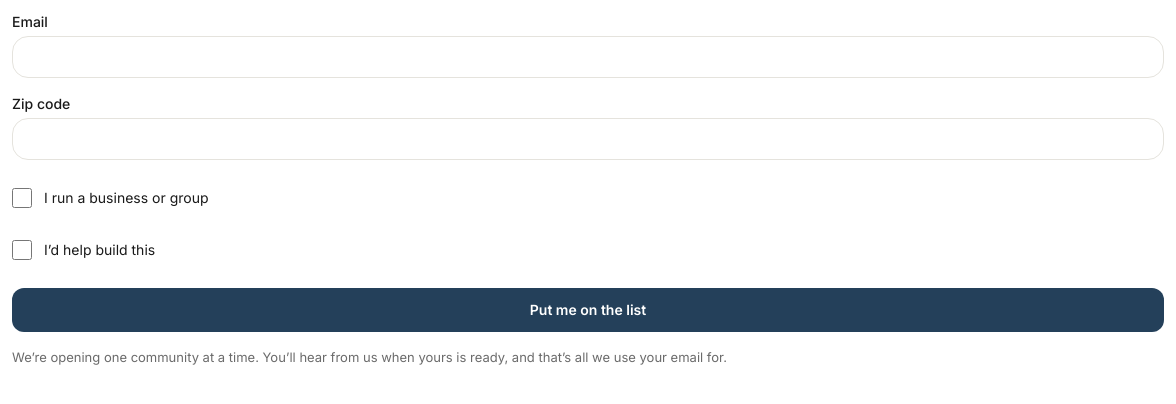
Scenario: the waitlist form › checks the zip and email before sending anything
Click the button "Put me on the list" at (588, 310), box [12,288,1164,332]
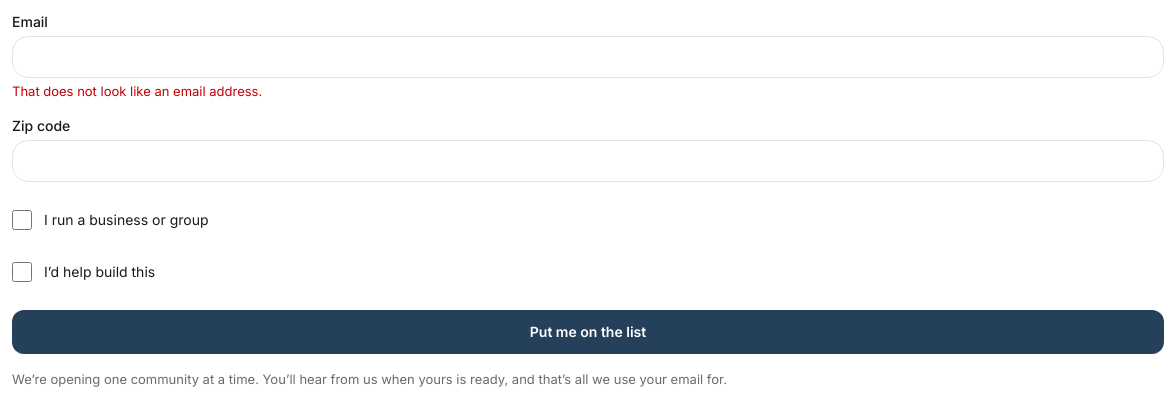
Check: the message reads "That does not look like an email address.", box [12,83,262,99]
